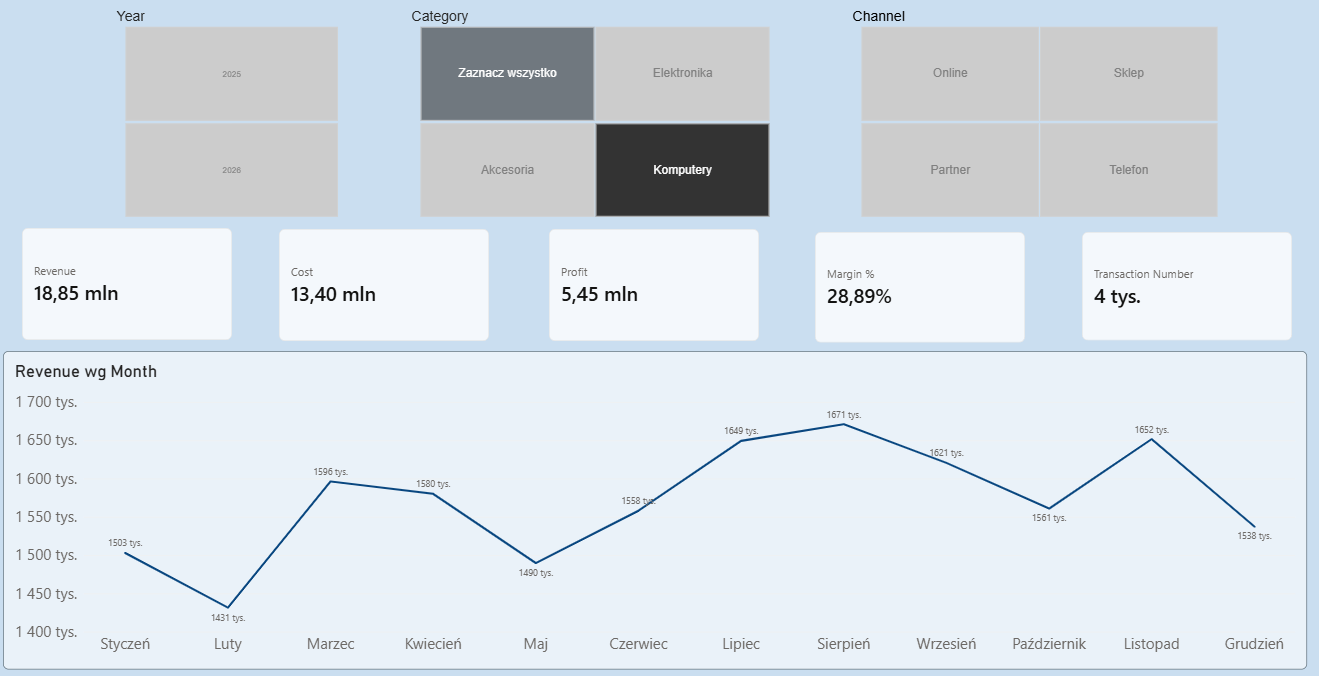

The page's visual inventory and layout, read from the dashboard file:
{"tool":"powerbi","page":{"name":"Sales Performance Overview","canvas":[1920,1080],"ordinal":0},"visuals":[{"type":"cardVisual","fields":{"Data":["Miary.Cost"]},"box":[421.7,426.7,300,160],"z":0},{"type":"cardVisual","fields":{"Data":["Miary.Profit"]},"box":[806.7,426.7,300,160],"z":1000},{"type":"cardVisual","fields":{"Data":["Miary.Revenue"]},"box":[53.8,426.2,300,160],"z":2000},{"type":"cardVisual","fields":{"Data":["Miary.Transaction Number"]},"box":[1568.3,431.7,300,155],"z":3000},{"type":"slicer","fields":{"Values":["kalendarz.Rok"]},"box":[181.7,111.7,343.3,300],"z":4000},{"type":"cardVisual","fields":{"Data":["Miary.Margin %"]},"box":[1186.7,431.7,300,158.3],"z":5000},{"type":"lineChart","fields":{"Category":["kalendarz.NazwaMiesiac"],"Y":["Miary.Revenue"]},"box":[26.7,601.7,1863.3,455],"z":6000},{"type":"slicer","fields":{"Values":["produkty.Kategoria"]},"box":[603.3,111.7,538.3,300],"z":7000},{"type":"slicer","fields":{"Values":["kanały.Kanal"]},"box":[1233.3,111.7,548.3,300],"z":8000},{"type":"textbox","box":[27.1,17.1,1892.9,74.3],"z":9000}]}

Visuals, with their boxes on the page's 1920x1080 design canvas (x1, y1, x2, y2). These are canvas units, not pixel positions in the 1319x676 screenshot, which may show the page scaled, cropped or inside an application window:
cardVisual - Miary.Cost: (left=422, top=427, right=722, bottom=587)
cardVisual - Miary.Profit: (left=807, top=427, right=1107, bottom=587)
cardVisual - Miary.Revenue: (left=54, top=426, right=354, bottom=586)
cardVisual - Miary.Transaction Number: (left=1568, top=432, right=1868, bottom=587)
slicer - kalendarz.Rok: (left=182, top=112, right=525, bottom=412)
cardVisual - Miary.Margin %: (left=1187, top=432, right=1487, bottom=590)
lineChart - kalendarz.NazwaMiesiac x Miary.Revenue: (left=27, top=602, right=1890, bottom=1057)
slicer - produkty.Kategoria: (left=603, top=112, right=1142, bottom=412)
slicer - kanały.Kanal: (left=1233, top=112, right=1782, bottom=412)
textbox: (left=27, top=17, right=1920, bottom=91)
